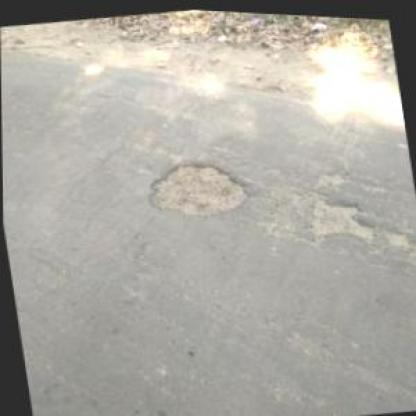pothole: (141, 148, 251, 225), (301, 186, 374, 248)
